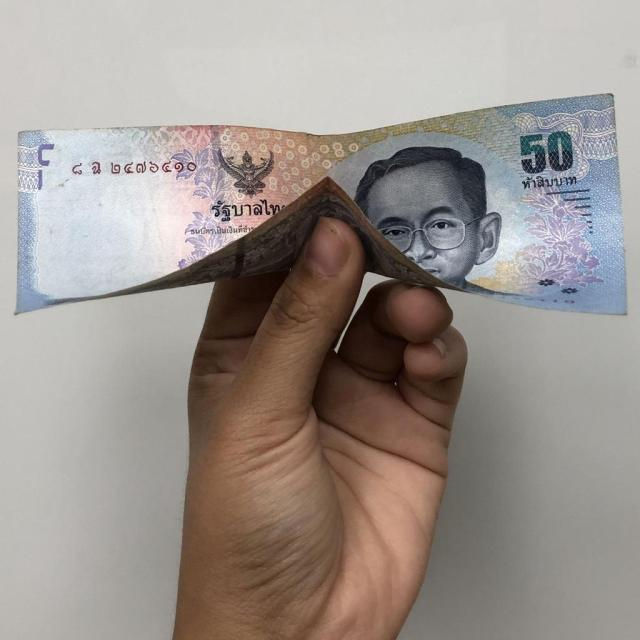THAI50: (16, 93, 626, 314)
